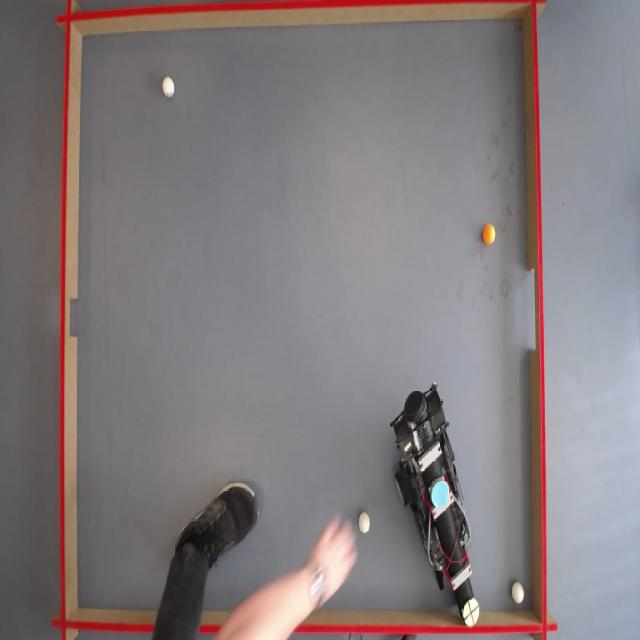orange: (484, 226, 498, 247)
robot: (394, 381, 481, 626)
robot-front: (462, 599, 478, 626)
robot-rear: (430, 480, 450, 510)
white: (512, 583, 526, 605), (163, 78, 177, 99), (358, 513, 371, 535)
